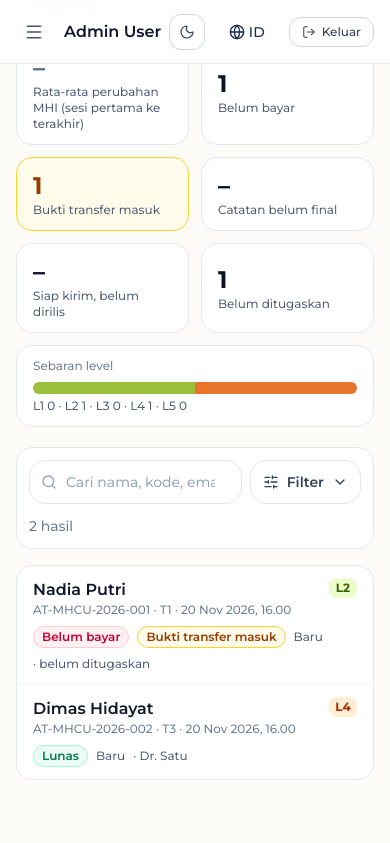
MHCU dashboard › shows an alert for a level 4-5 result
The width and height of the screenshot is (390, 843).
(page scrolled)
Click the button "Nadia Putri".
click(195, 625)  # box [17,566,373,684]
(page scrolled)
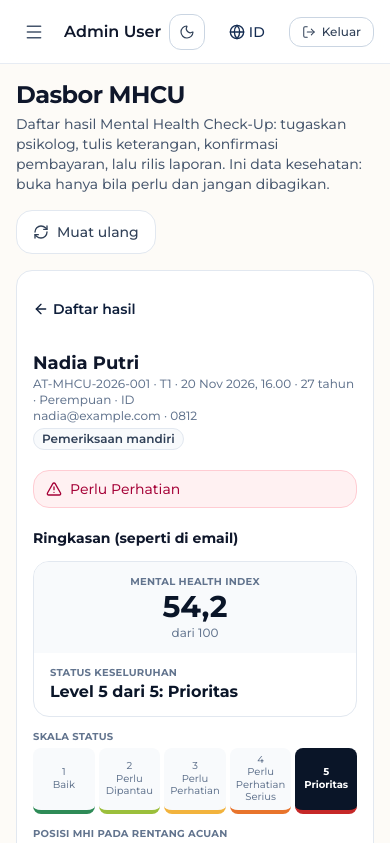
Expected: the heading "Nadia Putri" is shown, [33,352,139,374]
Expected: the message reads "Perlu Perhatian", [70,480,180,498]
